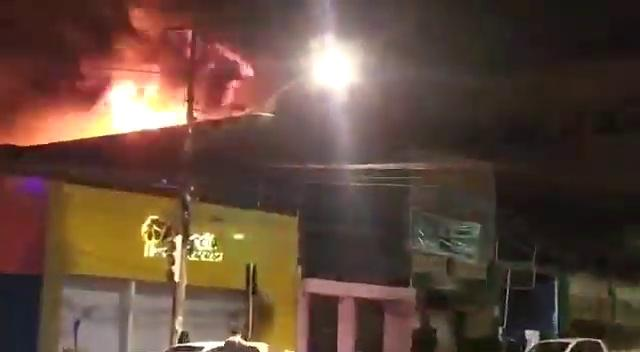fire: (108, 78, 174, 136)
